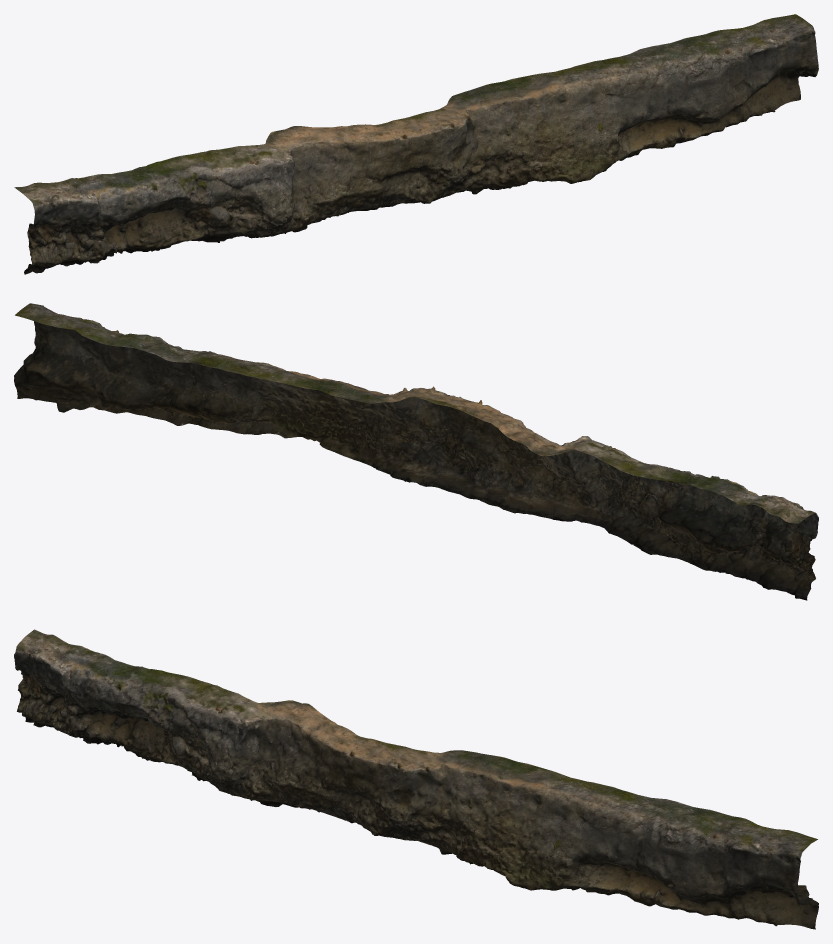
The model's file is coastal_cliff_01.glb.
3 views of the same model, one above another, from view 1: azimuth 30°, elevation 25°; view 2: azimuth 150°, elevation 25°; view 3: azimuth 330°, elevation 25° (orthographic). The views are drawn at different scales.
Parts seen in each view (by area): view 1: coastal_cliff_01; view 2: coastal_cliff_01; view 3: coastal_cliff_01.
Part boxes in pixels (bbox=[...]): coastal_cliff_01: bbox=[14, 14, 818, 274]; coastal_cliff_01: bbox=[14, 303, 818, 600]; coastal_cliff_01: bbox=[14, 629, 818, 929].
Size of the model in its own units: 91.98 by 10.32 by 10.96.
Materials: 1 (1 with a texture image).
